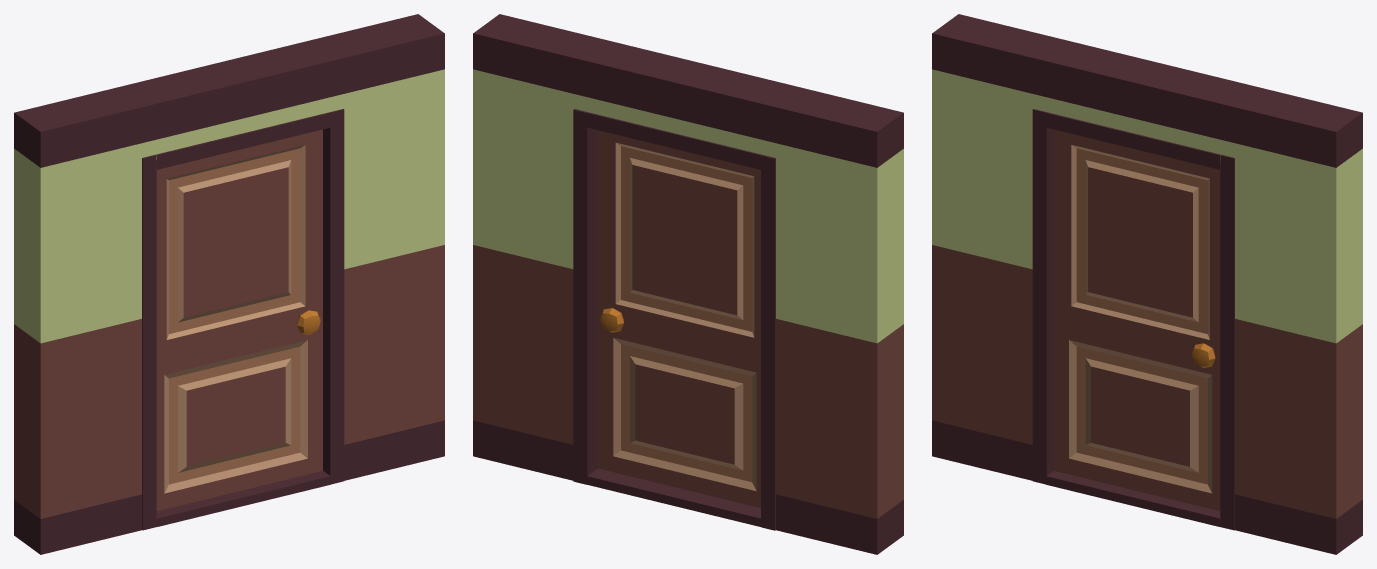
File: Wall_office_door.fbx
The picture shows the model from 3 angles, left to right: view 1: azimuth 30°, elevation 25°; view 2: azimuth 150°, elevation 25°; view 3: azimuth 330°, elevation 25°; orthographic projection.
Visible parts, largest first — view 1: Wall_office_door, Office_door; view 2: Wall_office_door, Office_door; view 3: Wall_office_door, Office_door.
Boxes of the visible parts, x1=… form: Wall_office_door: x1=14, y1=14, x2=444, y2=554; Office_door: x1=156, y1=129, x2=322, y2=510; Wall_office_door: x1=473, y1=14, x2=903, y2=554; Office_door: x1=598, y1=130, x2=760, y2=507; Wall_office_door: x1=932, y1=14, x2=1362, y2=554; Office_door: x1=1054, y1=129, x2=1220, y2=511.
Size of the model in its own units: 200 by 200 by 26.
